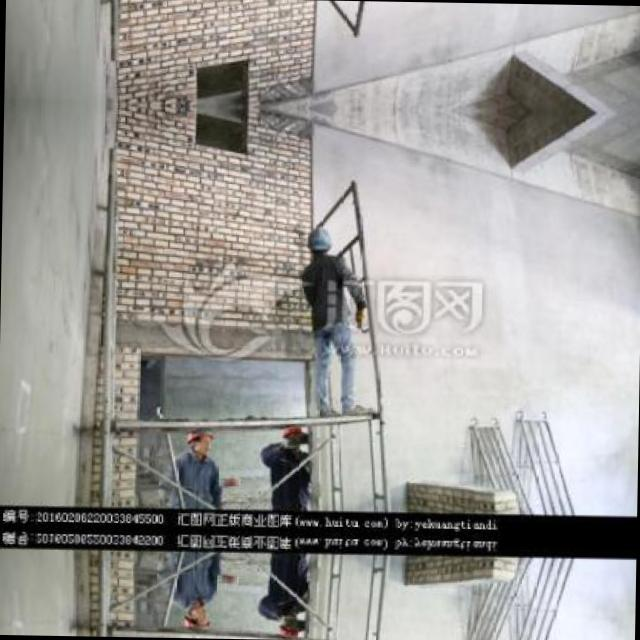helmet: (180, 600, 216, 636), (185, 417, 218, 456), (304, 224, 334, 259), (281, 420, 303, 448), (278, 614, 300, 636)
